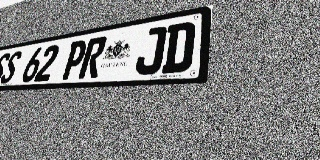2: (34, 44, 61, 82)
6: (20, 46, 46, 83)
D: (161, 21, 196, 74)
J: (134, 26, 168, 75)
P: (60, 39, 89, 80)
R: (78, 36, 108, 79)
S: (0, 50, 23, 84), (0, 52, 12, 85)
